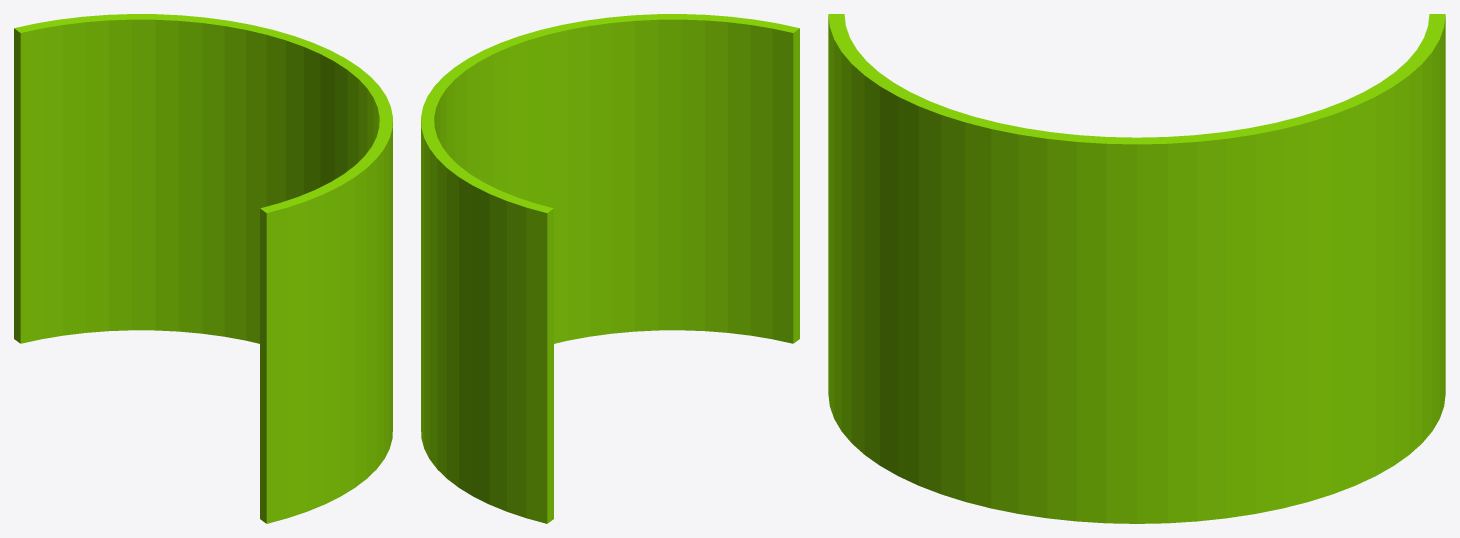
Rendered from Wall_N2_Bend_01.fbx.
The picture shows the model from 3 angles, left to right: view 1: azimuth 30°, elevation 25°; view 2: azimuth 150°, elevation 25°; view 3: azimuth 270°, elevation 25°; orthographic projection. The views are drawn at different scales.
Parts seen in each view (by area): view 1: Wall_N2_Bend_01; view 2: Wall_N2_Bend_01; view 3: Wall_N2_Bend_01.
Part boxes in pixels (x1=…): Wall_N2_Bend_01: x1=14, y1=14, x2=392, y2=523; Wall_N2_Bend_01: x1=421, y1=14, x2=799, y2=523; Wall_N2_Bend_01: x1=828, y1=14, x2=1445, y2=523.
Bounding box in the file's own units: 422 × 572 × 844.
